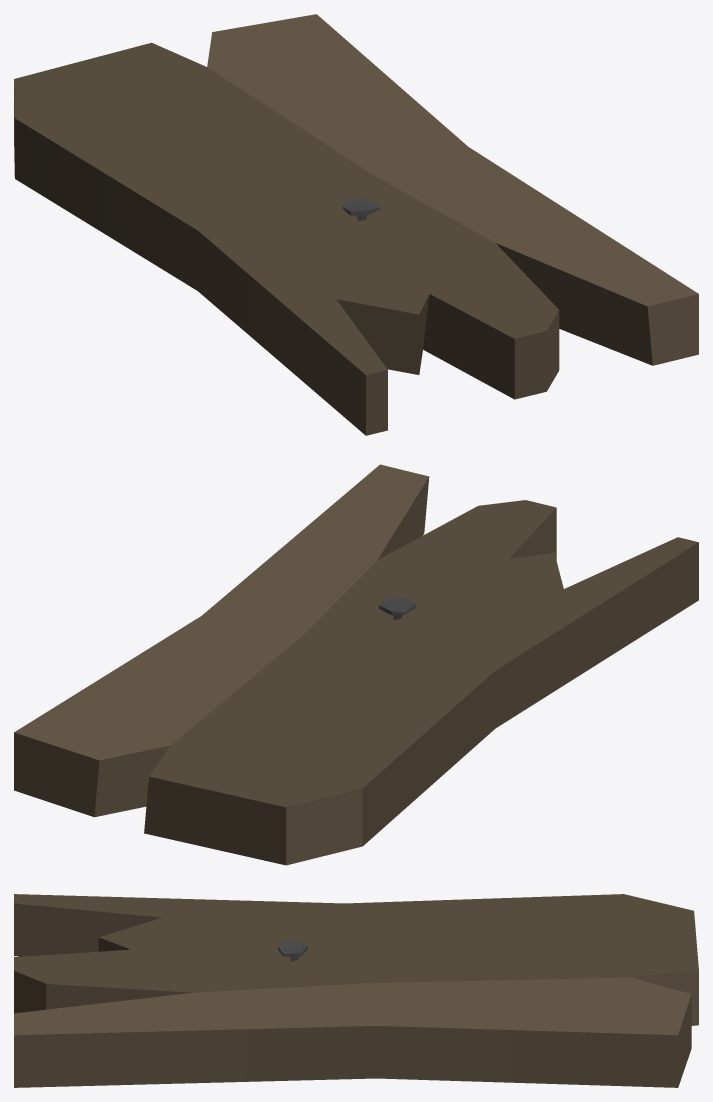
The model's file is Zwerfhout_2.fbx.
3 views of the same model, one above another, from view 1: azimuth 30°, elevation 25°; view 2: azimuth 150°, elevation 25°; view 3: azimuth 270°, elevation 25° (orthographic). The views are drawn at different scales.
Visible parts, largest first — view 1: Zwerfhout_2; view 2: Zwerfhout_2; view 3: Zwerfhout_2.
Boxes of the visible parts, x1,y1,x2,y2 form: Zwerfhout_2: (14,14,698,435); Zwerfhout_2: (14,464,698,865); Zwerfhout_2: (14,894,698,1087).
Size of the model in its own units: 3.1 by 0.6748 by 6.35.
